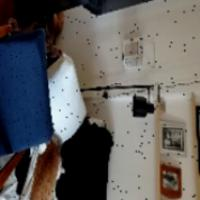asleep: (29, 140, 66, 200)
